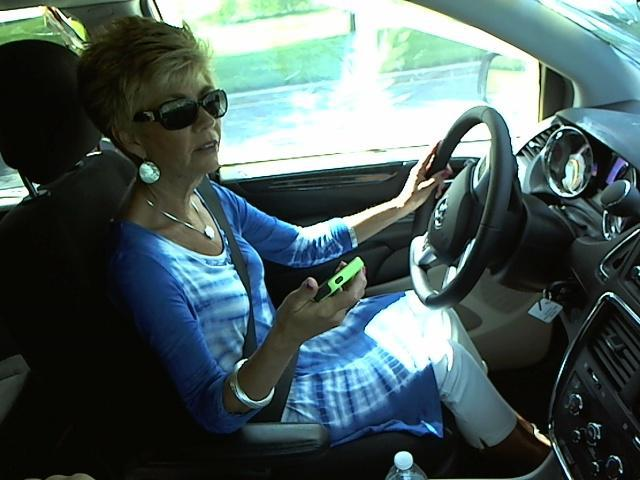PhoneUse: (300, 247, 373, 299)
